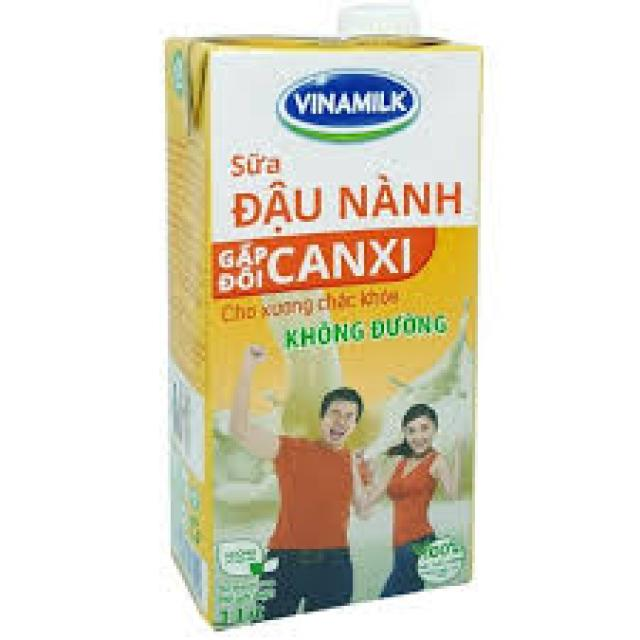non_white_jug: (157, 13, 492, 604)
